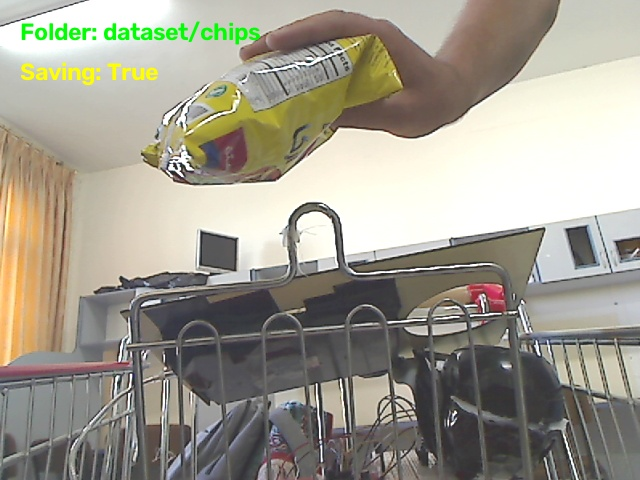chips: (142, 35, 401, 184)
